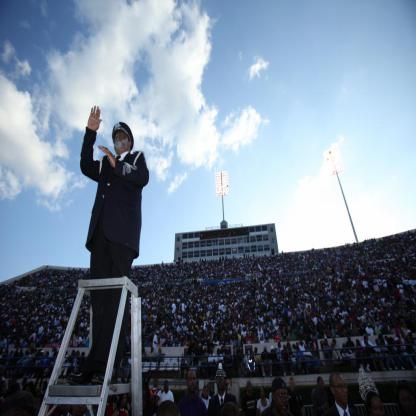face: (334, 377, 349, 406), (400, 391, 416, 416), (275, 390, 289, 414), (115, 129, 129, 150), (369, 398, 386, 415), (217, 375, 226, 391), (189, 375, 197, 391), (122, 396, 127, 407), (320, 379, 325, 389), (299, 408, 305, 416), (204, 388, 209, 397), (262, 389, 267, 398), (291, 379, 295, 390), (3, 383, 8, 391), (248, 385, 253, 393), (154, 378, 158, 387), (165, 382, 169, 390), (20, 348, 23, 356), (357, 340, 360, 347), (72, 352, 75, 358), (127, 340, 130, 346), (284, 327, 287, 333), (365, 339, 368, 345), (43, 384, 46, 390), (78, 353, 81, 358), (82, 354, 85, 359), (165, 330, 168, 335), (238, 353, 241, 358), (240, 372, 243, 377), (254, 348, 257, 353), (288, 345, 291, 350), (349, 337, 352, 342), (4, 350, 7, 355), (264, 348, 267, 353), (344, 345, 347, 349), (333, 340, 336, 344), (272, 349, 275, 353), (54, 332, 56, 337), (184, 340, 186, 345), (152, 348, 154, 353), (219, 350, 221, 355), (186, 351, 188, 356), (183, 359, 185, 364), (211, 338, 213, 343), (322, 342, 324, 347), (9, 383, 11, 388), (284, 347, 286, 352), (326, 340, 328, 344), (159, 339, 161, 342), (189, 359, 191, 362), (204, 357, 205, 362), (160, 349, 161, 352)
